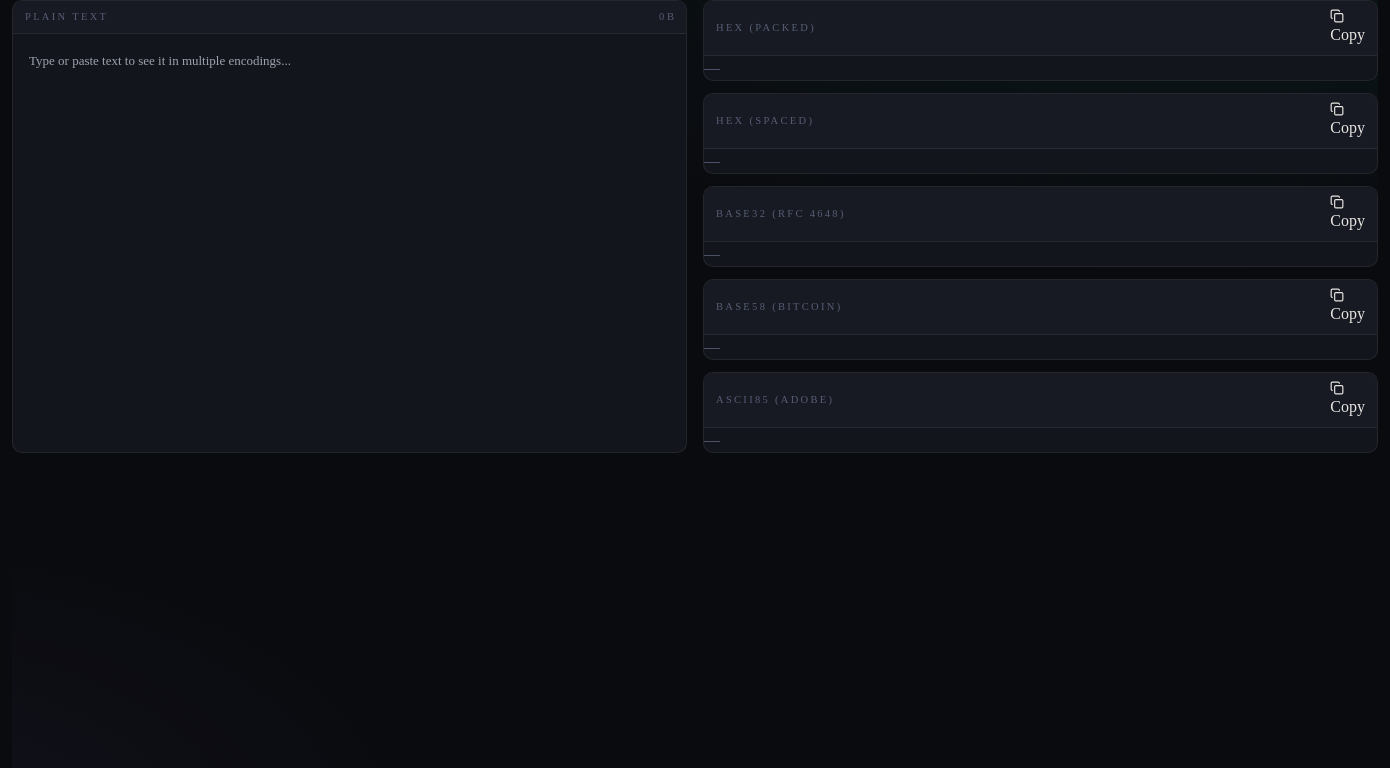
Test: EncodingsTab copy buttons › names encoded output and hash copy buttons
Type "Hello" into the text box named "Text to encode".
click(350, 243); type("Hello")  # box top-left (13, 34), bottom-right (686, 452)
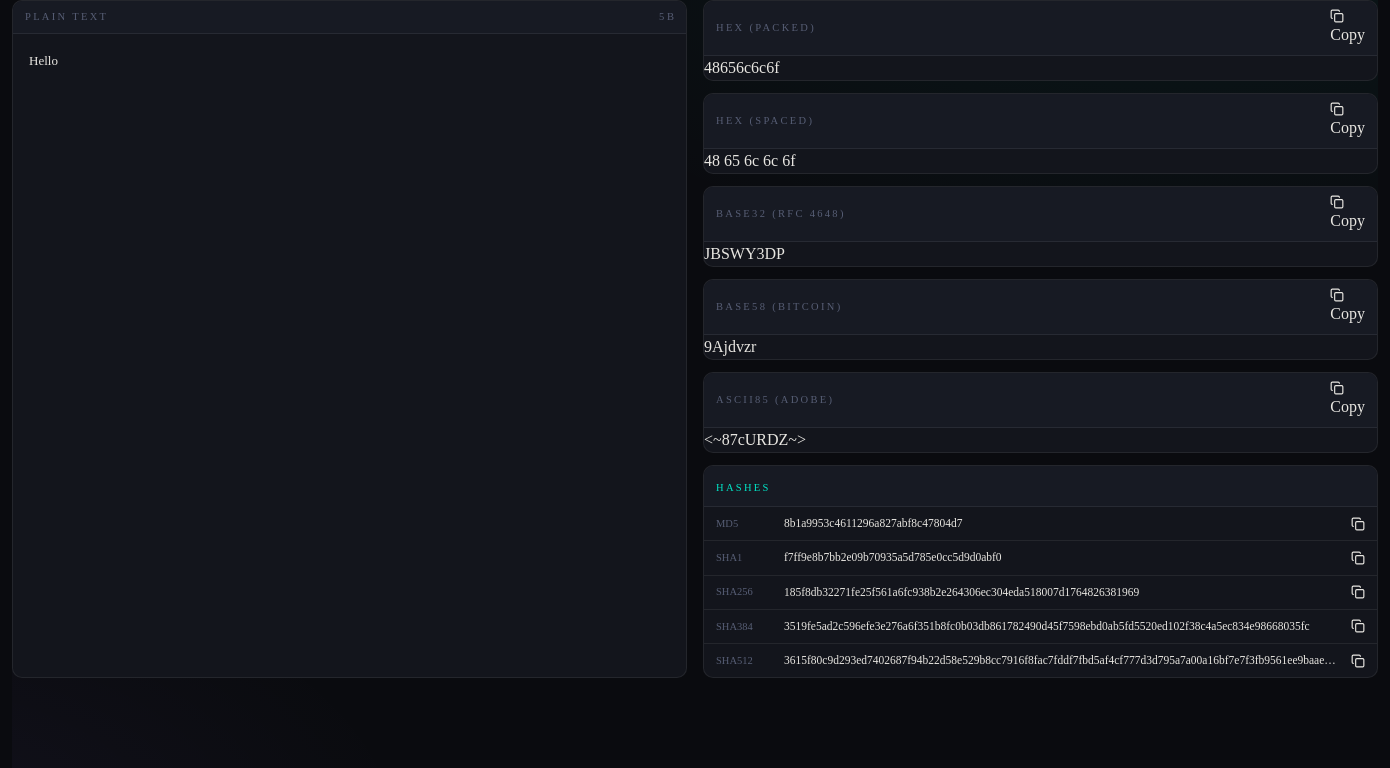
Expected: the button with aria-label "Copy Base32 (RFC 4648)" is shown, top-left (1330, 195), bottom-right (1365, 233)
Expected: the button named "Copy SHA256" is shown, top-left (1351, 585), bottom-right (1365, 599)
